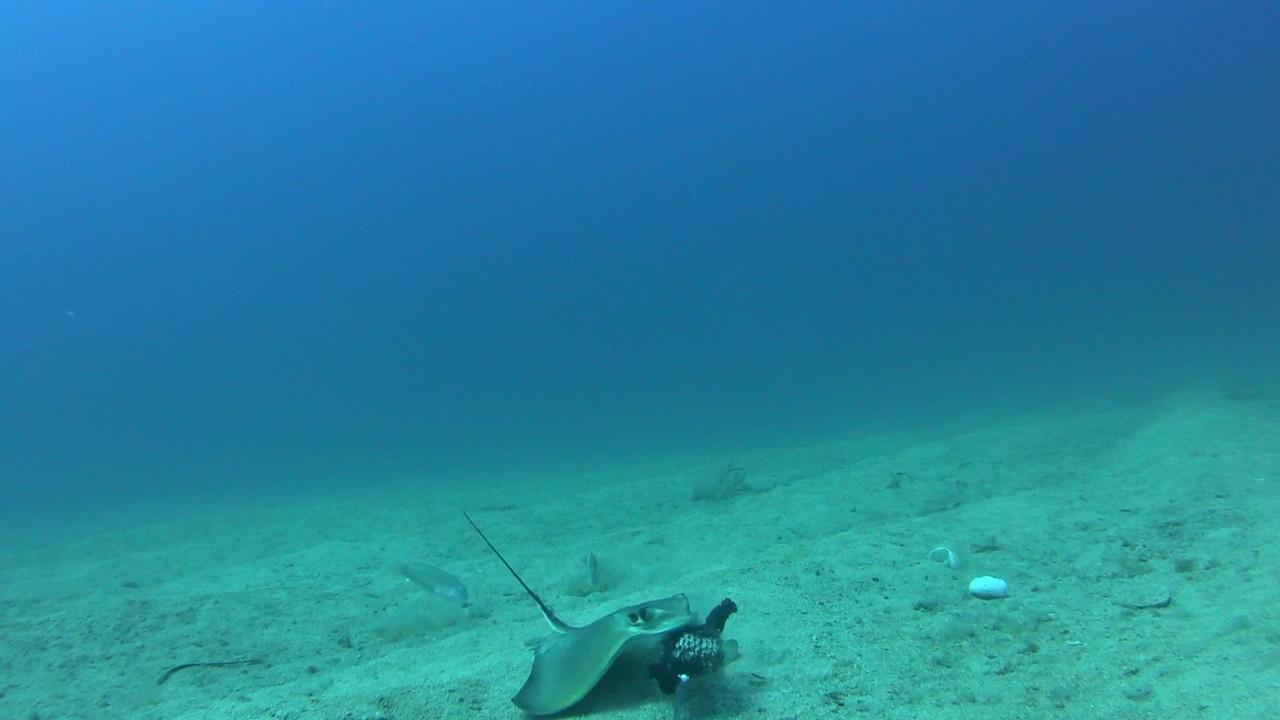myliobatis: (454, 501, 700, 719)
raor: (388, 558, 475, 611)
